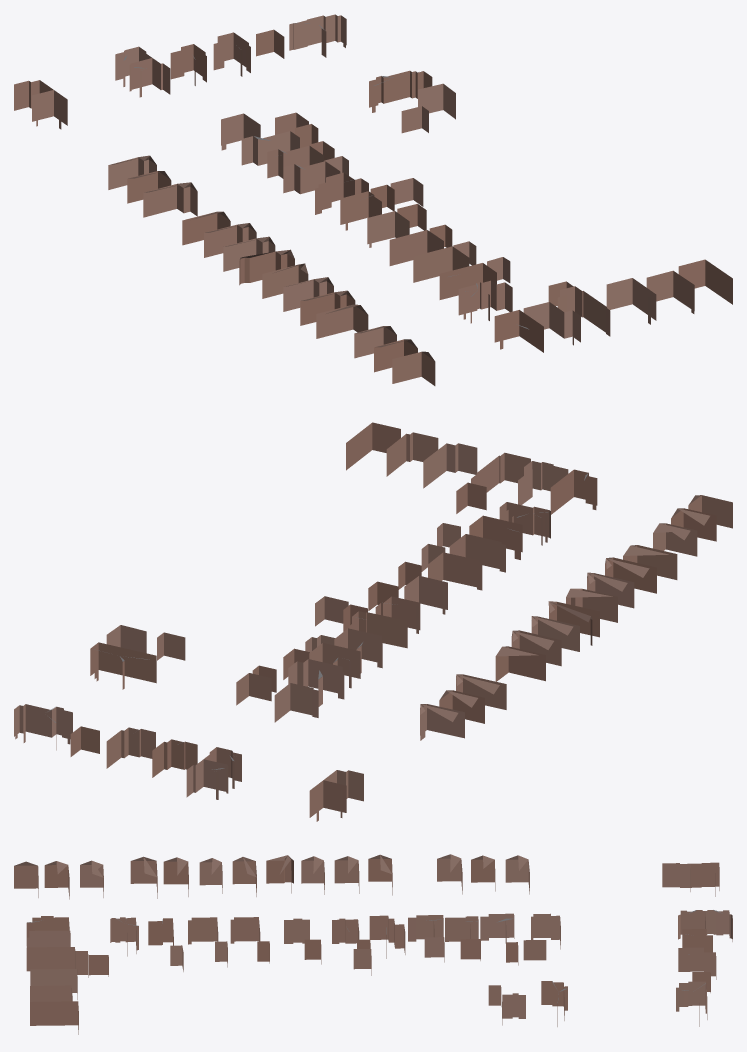
File: c_1642_17823_buildings_residential.glb
3 renders of one model, top to bottom at view 1: azimuth 30°, elevation 25°; view 2: azimuth 150°, elevation 25°; view 3: azimuth 270°, elevation 25°, orthographic. The views are drawn at different scales.
Visible parts, largest first — view 1: geometry_0; view 2: geometry_0; view 3: geometry_0.
Boxes of the visible parts, <box> form: geometry_0: <box>14,14,732,385</box>; geometry_0: <box>14,422,732,821</box>; geometry_0: <box>14,854,732,1034</box>.
Size of the model in its own units: 133 by 10.68 by 257.
